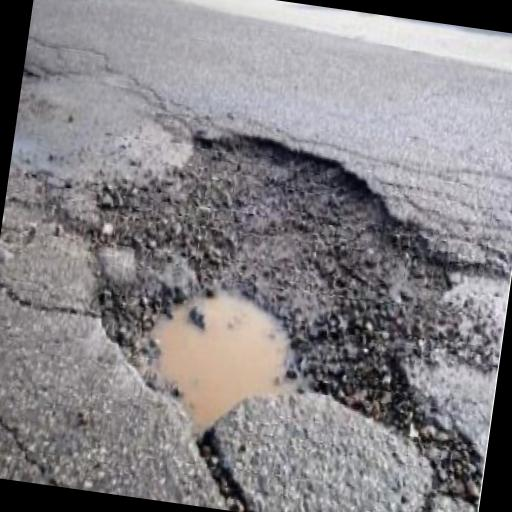pothole: (58, 106, 479, 478)
